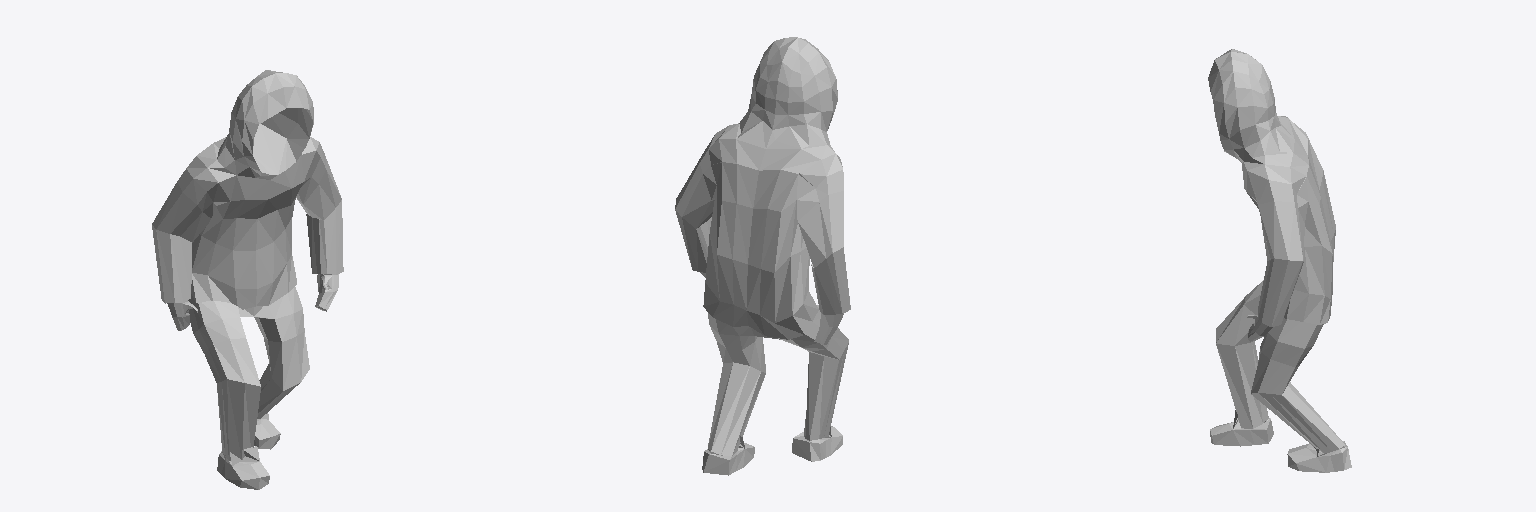
Rendered from Shadowmanv_000052.obj.
3 views of the same model, side by side, from view 1: azimuth 30°, elevation 25°; view 2: azimuth 150°, elevation 25°; view 3: azimuth 270°, elevation 25° (orthographic).
Visible parts, largest first — view 1: Cube.000; view 2: Cube.000; view 3: Cube.000.
Part boxes in pixels (x1,y1,x2,y2): Cube.000: (152,70,343,489); Cube.000: (675,37,850,475); Cube.000: (1208,49,1351,472).
Size of the model in its own units: 4.92 by 10.81 by 3.49.